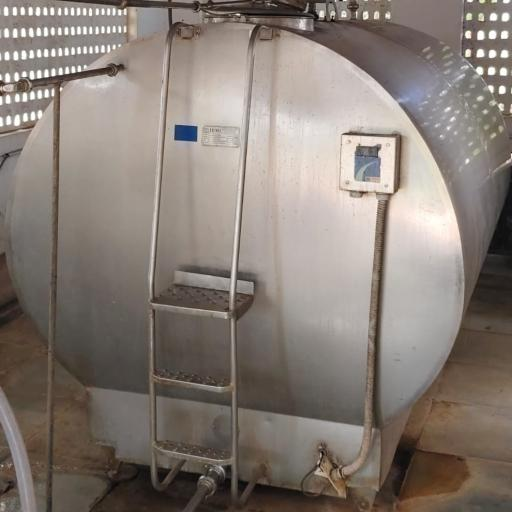silo: (6, 9, 511, 488)
